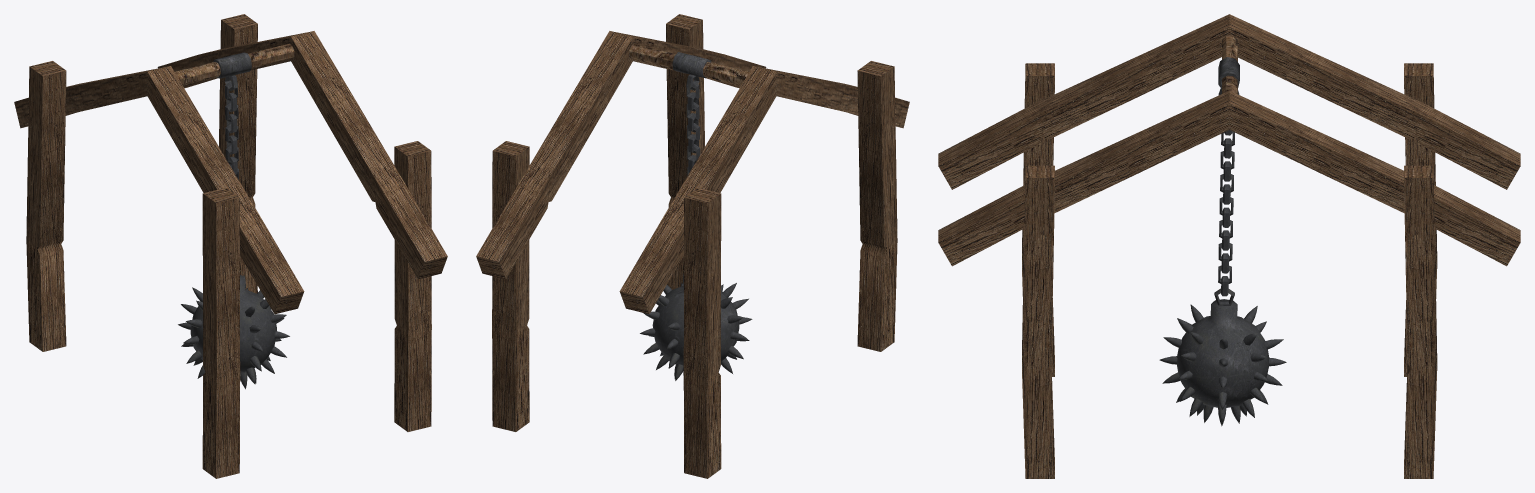
File: Obstacle2.FBX
3 views of the same model, side by side, from view 1: azimuth 30°, elevation 25°; view 2: azimuth 150°, elevation 25°; view 3: azimuth 270°, elevation 25° (orthographic). The views are drawn at different scales.
Visible parts, largest first — view 1: polySurface064, polySurface063, polySurface062; view 2: polySurface064, polySurface063, polySurface062; view 3: polySurface064, polySurface063, polySurface062.
Boxes of the visible parts, x1,y1,x2,y2 form: polySurface064: [14, 14, 447, 478]; polySurface063: [178, 275, 289, 389]; polySurface062: [213, 52, 251, 179]; polySurface064: [476, 14, 909, 478]; polySurface063: [640, 273, 752, 380]; polySurface062: [672, 52, 711, 175]; polySurface064: [938, 14, 1520, 478]; polySurface063: [1159, 299, 1286, 426]; polySurface062: [1214, 57, 1239, 305].
Bounding box in the file's own units: 582 × 856 × 1243.
Materials: 2 (2 with a texture image).
